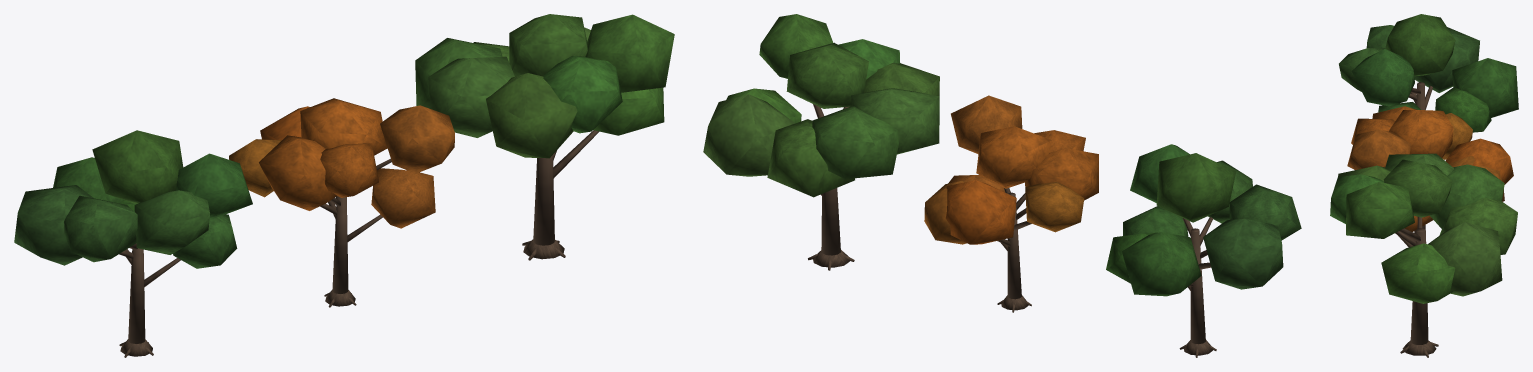
File: tree_oak.glb
3 views of the same model, side by side, from view 1: azimuth 30°, elevation 25°; view 2: azimuth 150°, elevation 25°; view 3: azimuth 270°, elevation 25° (orthographic). The views are drawn at different scales.
Parts seen in each view (by area): view 1: tree_oak_v3, tree_oak_v1, tree_oak_v2; view 2: tree_oak_v3, tree_oak_v1, tree_oak_v2; view 3: tree_oak_v3, tree_oak_v1, tree_oak_v2.
Part boxes in pixels (box(x1,y1,x2,y2)): tree_oak_v3: box(415, 14, 674, 260); tree_oak_v1: box(14, 130, 252, 357); tree_oak_v2: box(229, 98, 454, 307); tree_oak_v3: box(703, 14, 939, 270); tree_oak_v1: box(1106, 144, 1301, 357); tree_oak_v2: box(924, 95, 1098, 312); tree_oak_v3: box(1330, 153, 1517, 357); tree_oak_v1: box(1339, 14, 1518, 132); tree_oak_v2: box(1347, 106, 1513, 233).
Size of the model in its own units: 24.77 by 9.03 by 7.99.
Materials: 2 (2 with a texture image).
